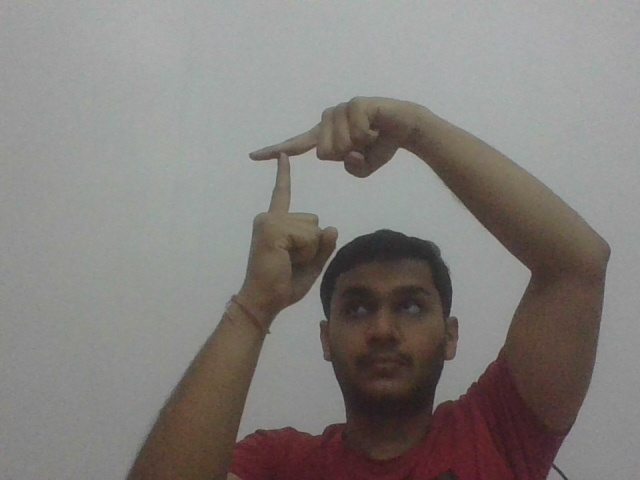T: (246, 128, 312, 212)
